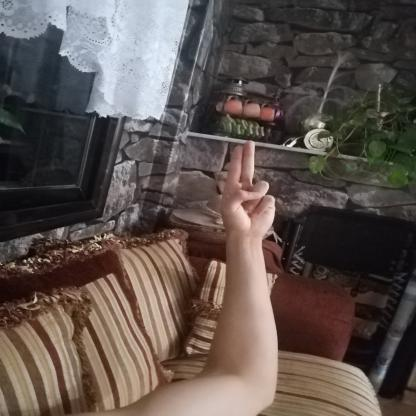TA: (207, 134, 285, 246)
